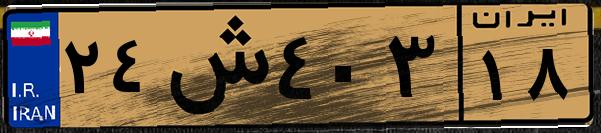0: (330, 28, 385, 110)
1: (475, 38, 525, 113)
2: (57, 26, 110, 100)
3: (385, 28, 445, 110)
4: (270, 28, 330, 110), (110, 28, 158, 98)
8: (525, 38, 570, 115)
ش: (158, 12, 270, 120)
